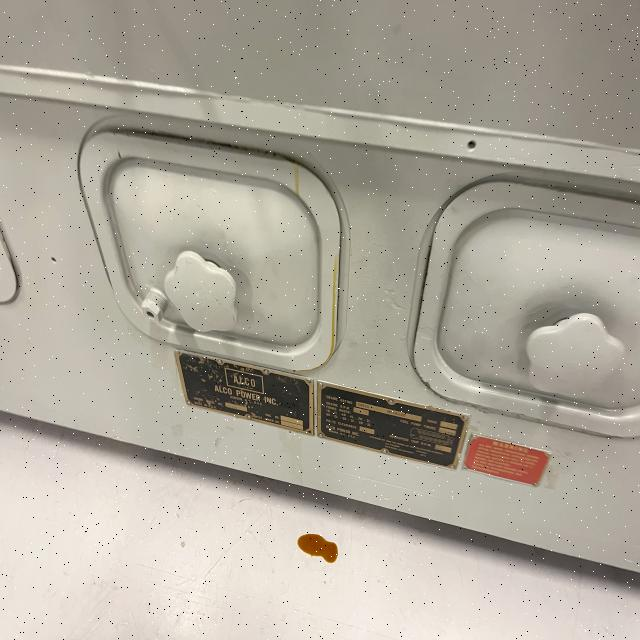Oil Leak: (321, 255, 339, 364), (297, 534, 338, 563), (295, 166, 299, 194)
